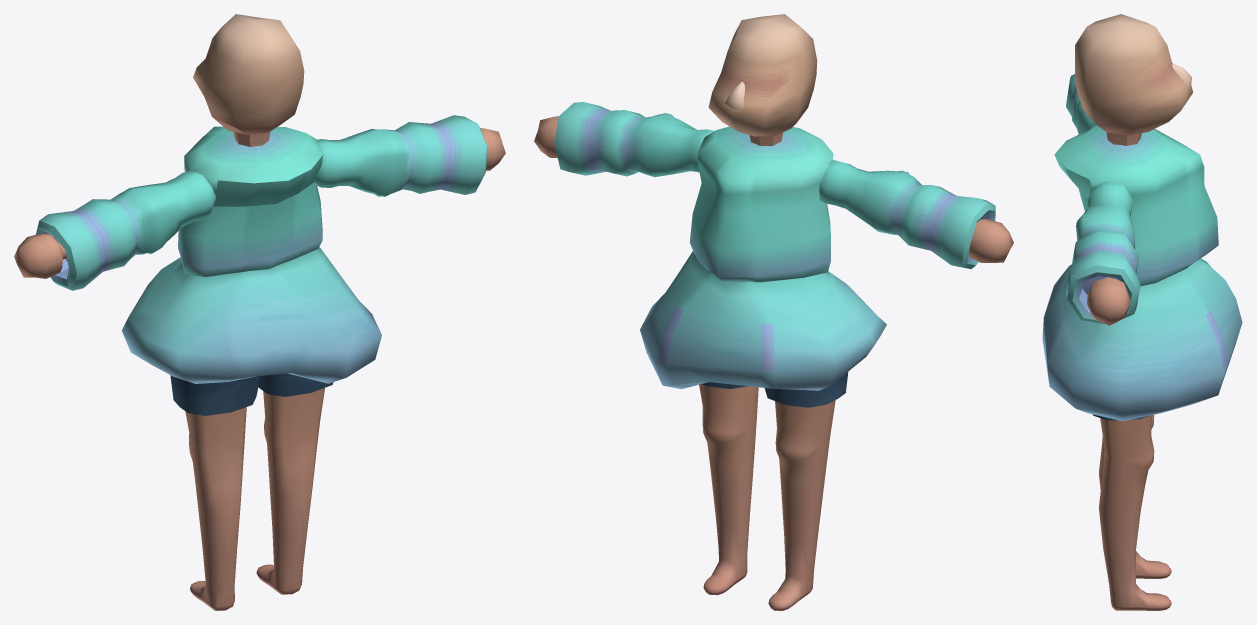
Rendered from Char_Tpose.fbx.
3 renders of one model, left to right at view 1: azimuth 30°, elevation 25°; view 2: azimuth 150°, elevation 25°; view 3: azimuth 270°, elevation 25°, orthographic. The views are drawn at different scales.
Parts seen in each view (by area): view 1: pCube13; view 2: pCube13; view 3: pCube13.
Boxes of the visible parts, box(x1,y1,x2,y2) form: pCube13: box(14, 14, 505, 610); pCube13: box(534, 14, 1013, 610); pCube13: box(1042, 14, 1242, 610).
Bounding box in the file's own units: 374 × 428 × 136.
